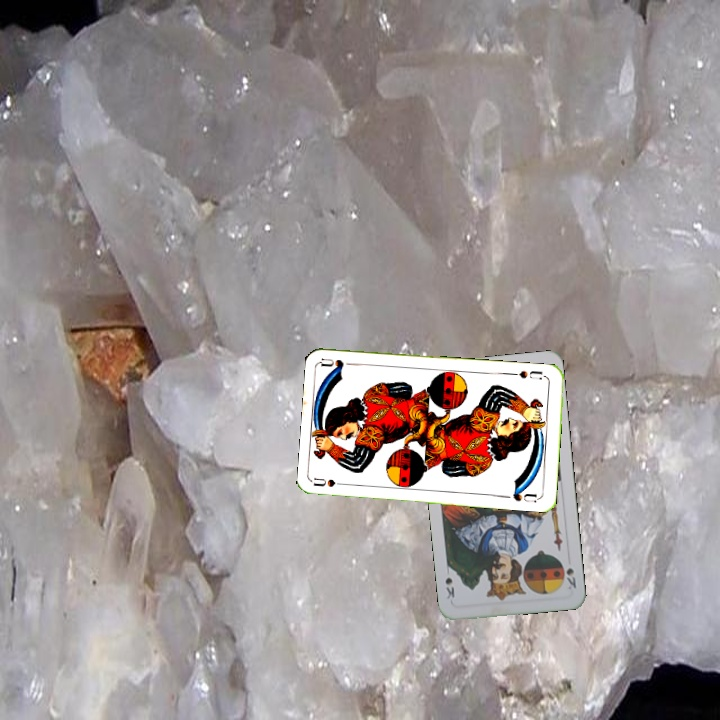SK: (562, 564, 579, 592)
SU: (311, 474, 352, 489), (508, 366, 544, 382)
